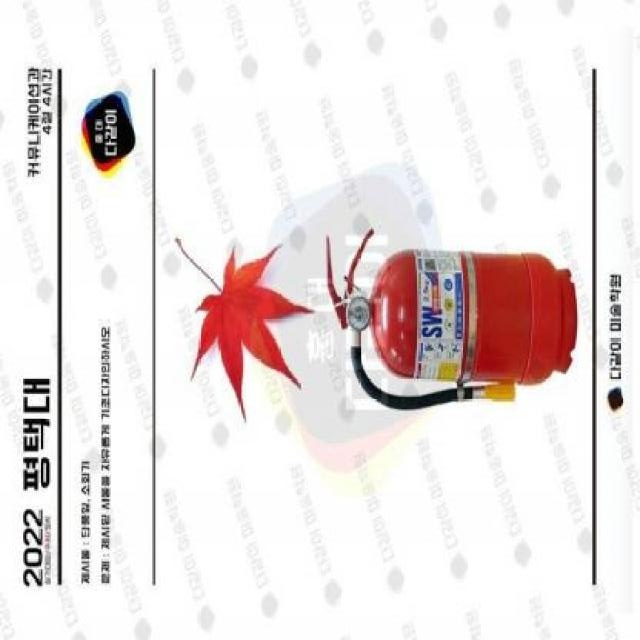fire extinguisher: (326, 228, 579, 410)
